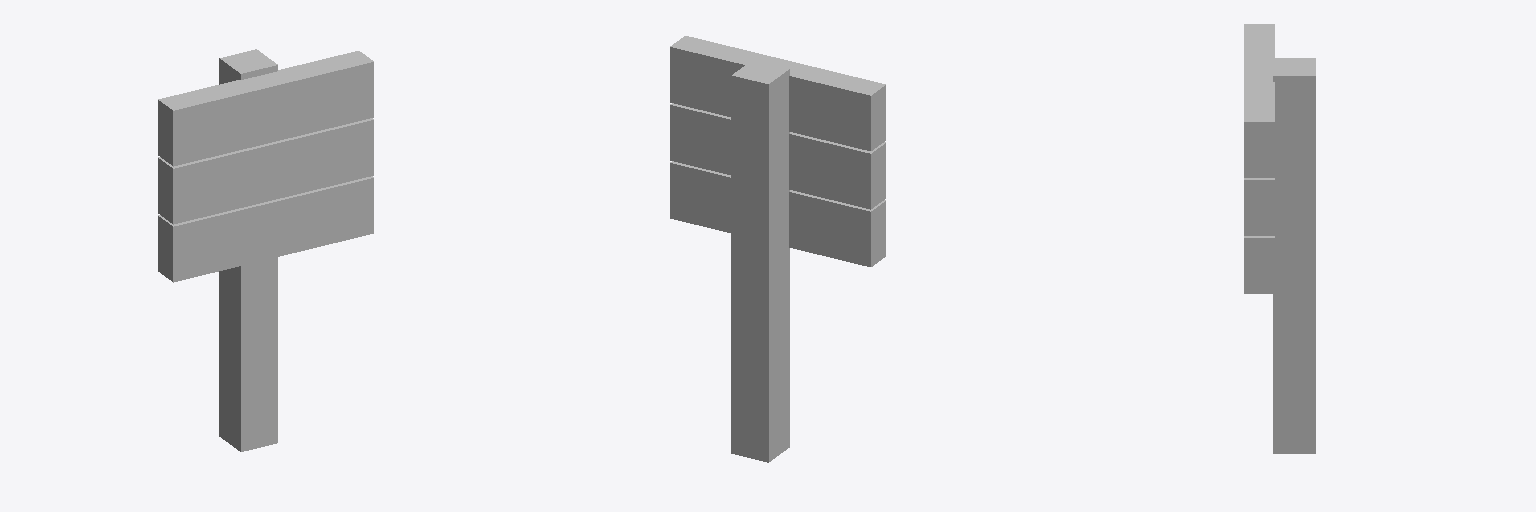
The model's file is Sign.obj.
3 renders of one model, left to right at view 1: azimuth 30°, elevation 25°; view 2: azimuth 150°, elevation 25°; view 3: azimuth 270°, elevation 25°, orthographic.
Parts seen in each view (by area): view 1: Cube; view 2: Cube; view 3: Cube.
Part boxes in pixels (x1,y1,x2,y2): Cube: (158, 49, 373, 451); Cube: (670, 36, 885, 462); Cube: (1244, 24, 1315, 453).
Bounding box in the file's own units: 0.6483 × 1.17 × 0.2001.